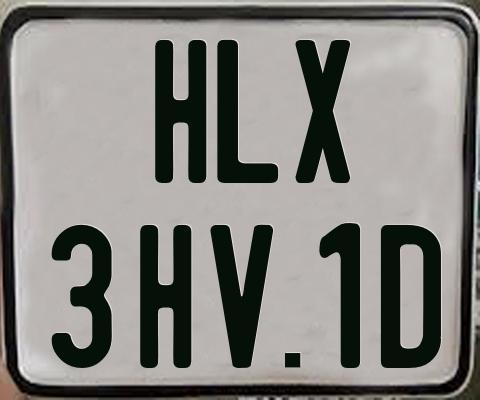1: (316, 220, 362, 365)
3: (51, 225, 118, 368)
D: (381, 222, 446, 371)
H: (152, 40, 209, 188), (139, 224, 191, 373)
L: (217, 37, 280, 181)
V: (210, 225, 276, 372)
X: (294, 40, 354, 188)
